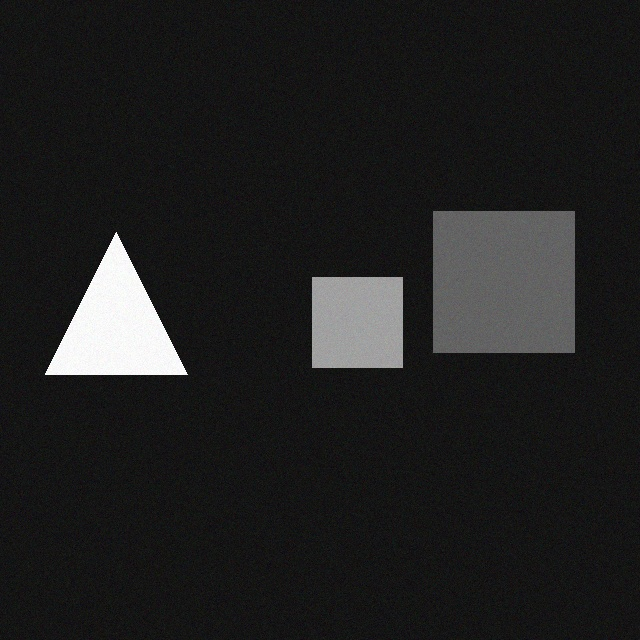square: (419, 201, 560, 342), (298, 267, 388, 357)
triangle: (31, 222, 173, 364)
